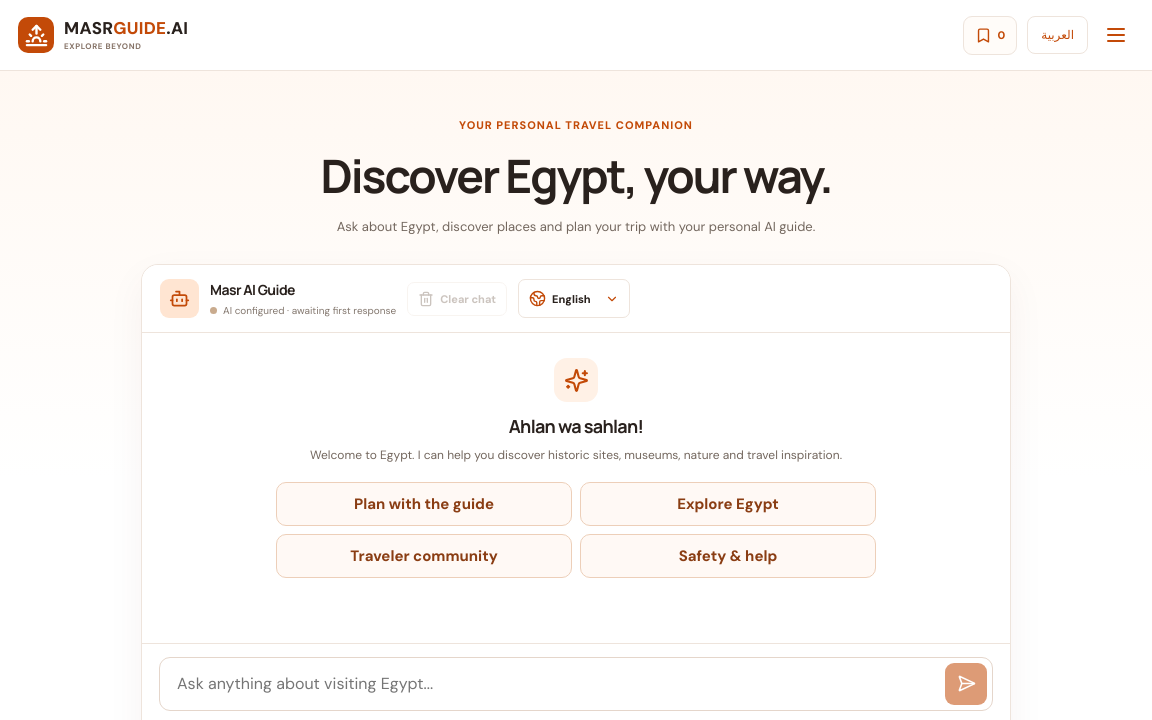
Scenario: GitHub release fixes › recognizes a Gemini narrated itinerary as an AI reply
This screenshot has width=1152, height=720.
In the field named "Ask the tour guide": (560, 684) [175, 663, 945, 705], type "Plan my Egypt trip"
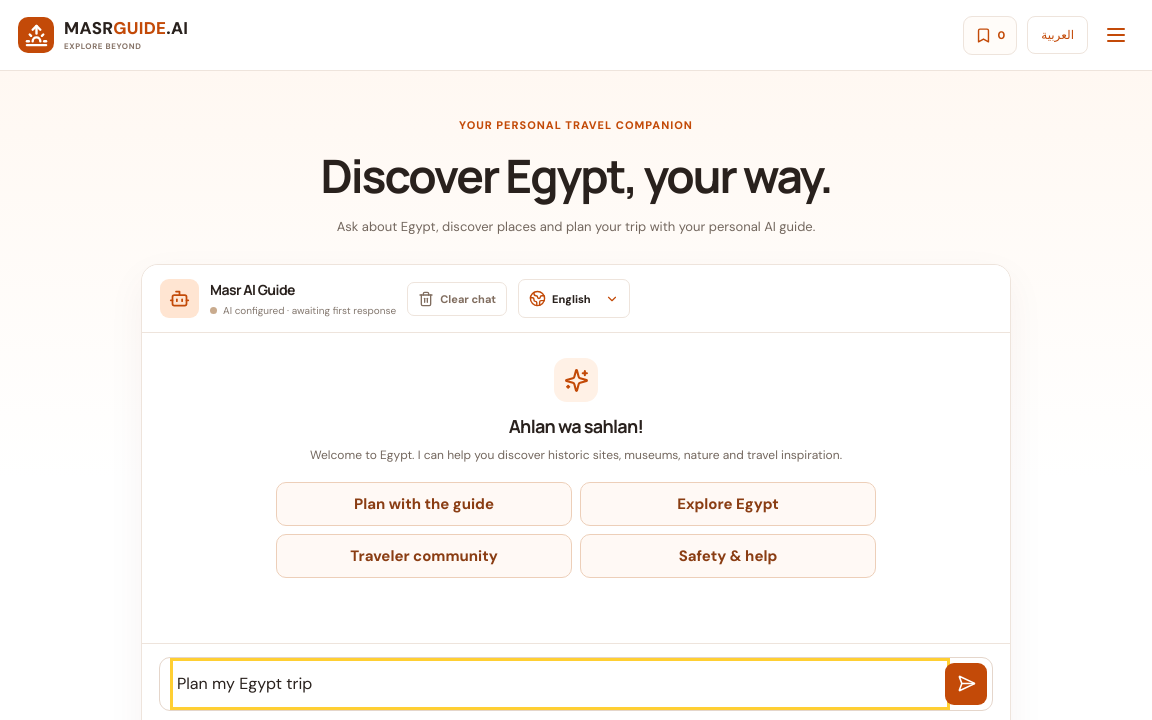
Click the button named "Send message": (966, 684) [945, 663, 987, 705]
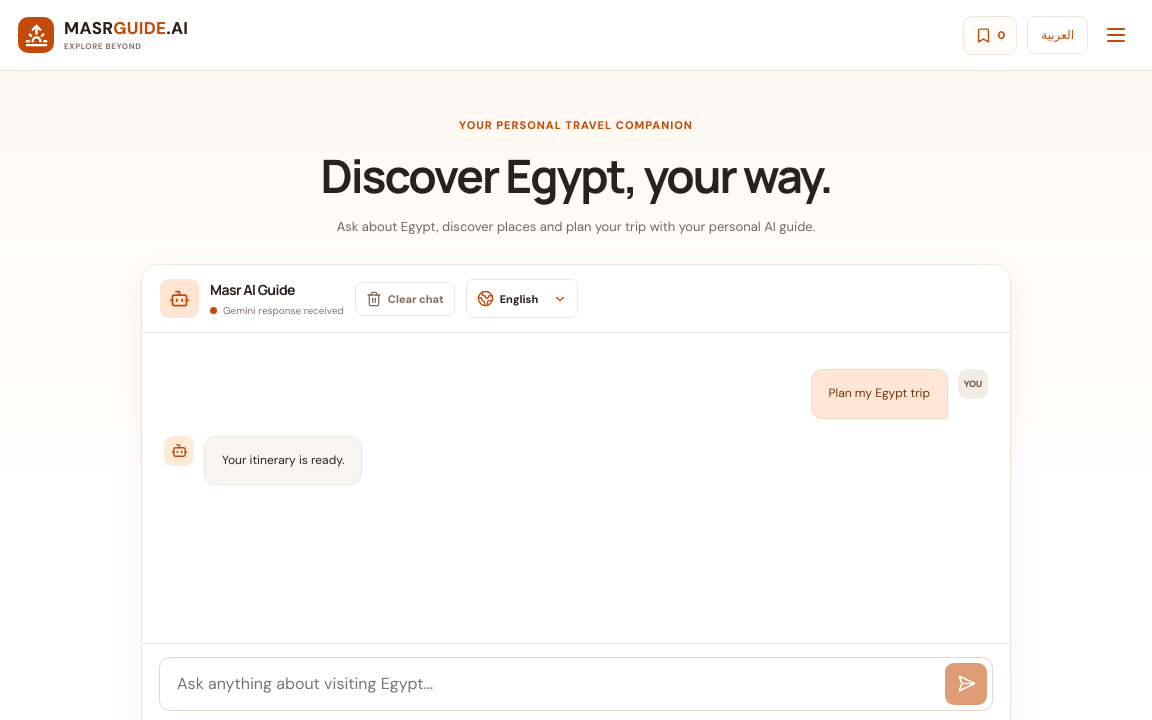
Now the text "Your itinerary is ready." is shown, box [204, 436, 362, 485]
Now the text "Gemini response received" is shown, box [210, 304, 344, 317]
